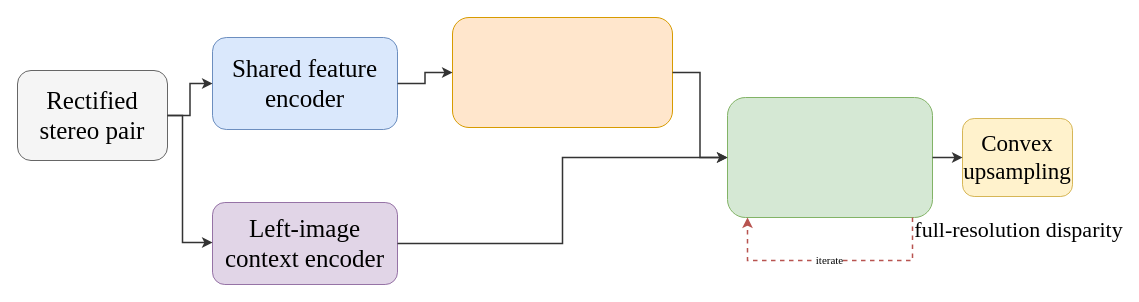
This 1139x302 diagram has some shape labels left out. The shapes that lost their labels are listed below. From the top down, each one's centre as x and y in pixels, then its label:
At (x=562, y=72): "All-pairs 1-D correlation pyramid".
At (x=829, y=157): "ConvGRU update correlation lookup + disparity residual".
